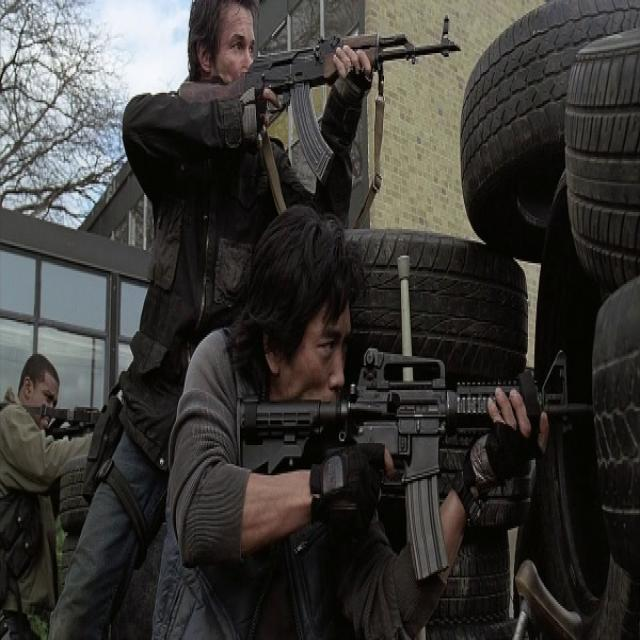rifle: (232, 344, 586, 582), (225, 12, 466, 182)
